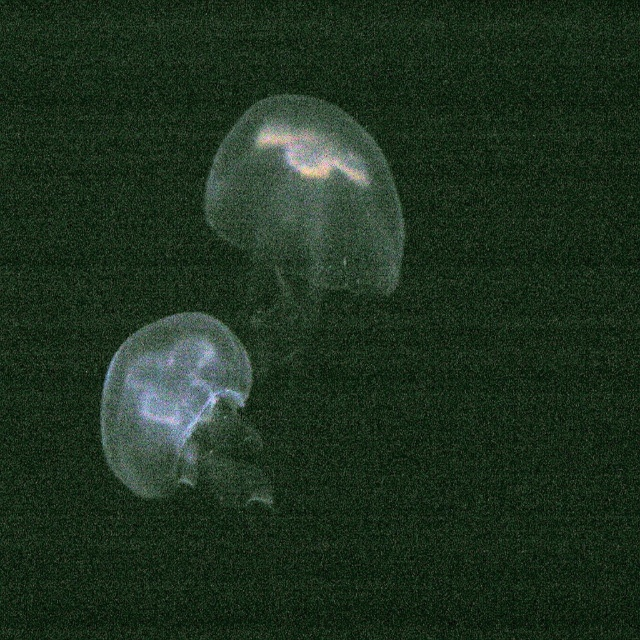Jellyfish: (200, 91, 405, 379), (98, 309, 272, 522)
